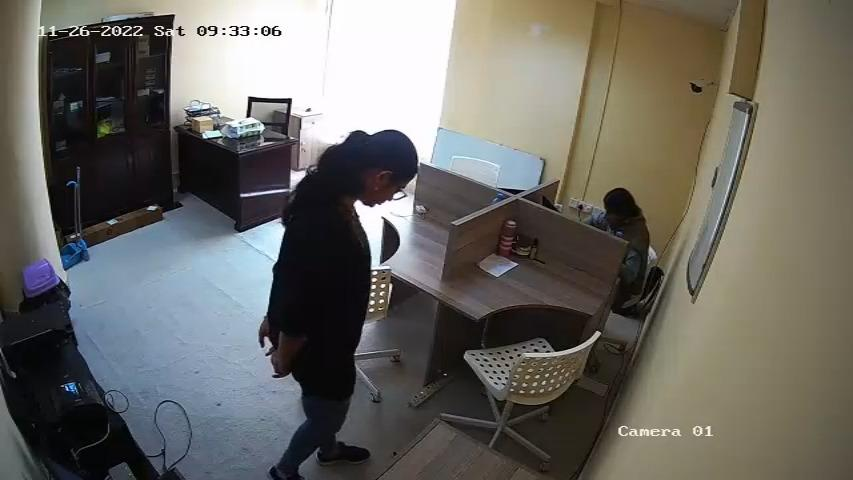no_apron: (309, 205, 367, 388)
